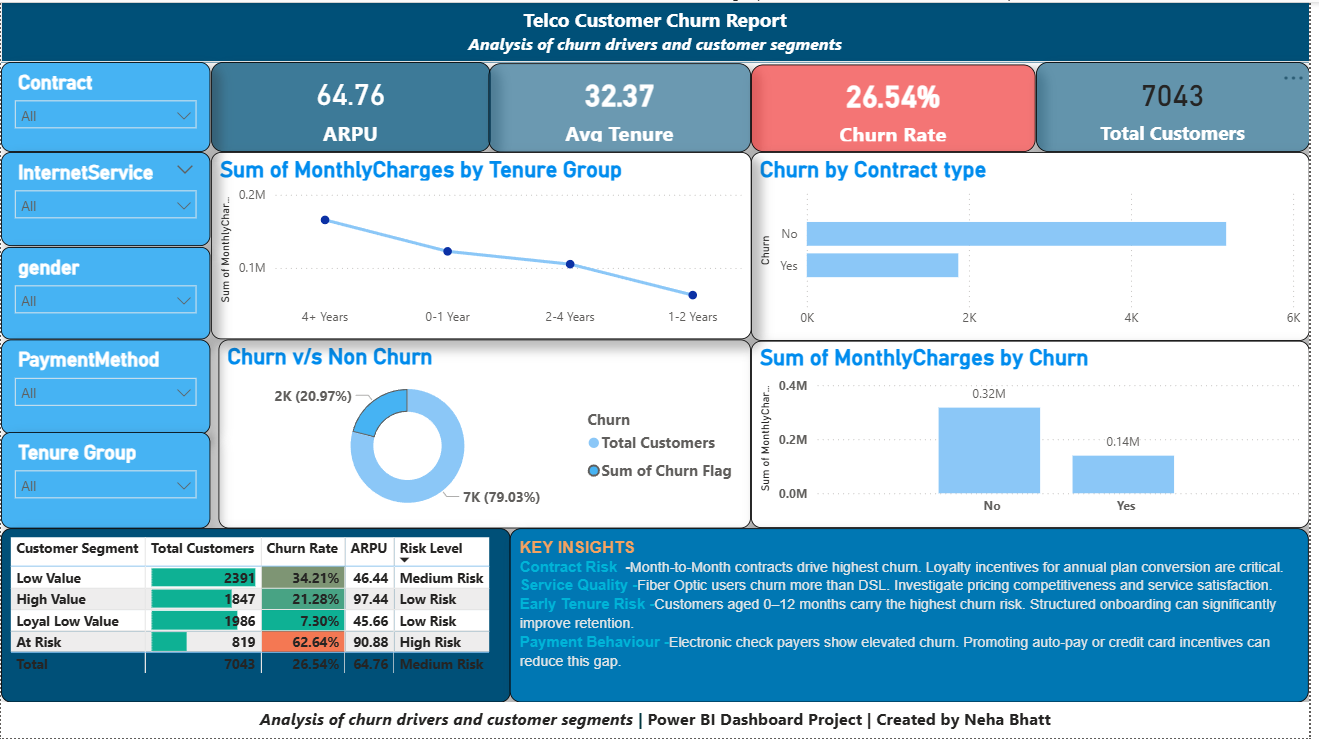

Layout of this report page (visuals, bound fields, positions):
{"tool":"powerbi","page":{"name":"Telco Customer Churn Report","canvas":[1280,720],"ordinal":0},"visuals":[{"type":"textbox","box":[0,0,1280,59.1],"z":0},{"type":"card","fields":{"Values":["Customer Data.ARPU"]},"box":[205.1,59.1,273.9,88.1],"z":1000},{"type":"card","fields":{"Values":["Customer Data.Avg Tenure"]},"box":[476.5,60.3,257,86.9],"z":2000},{"type":"card","fields":{"Values":["Customer Data.Churn Rate"]},"box":[733.5,61.5,278.7,85.7],"z":3000},{"type":"card","fields":{"Values":["Customer Data.Total Customers"]},"box":[1012.2,59.1,267.8,88.1],"z":4000},{"type":"clusteredBarChart","title":"Churn by Contract type","fields":{"Category":["Customer Data.Churn"],"Y":["CountNonNull(Customer Data.Contract)"]},"box":[733.5,147.2,546.5,184.6],"z":5000},{"type":"donutChart","title":"Churn v/s Non Churn","fields":{"Y":["Customer Data.Total Customers","Sum(Customer Data.Churn Flag)"]},"box":[212.3,330.6,521.2,184.6],"z":6000},{"type":"clusteredColumnChart","fields":{"Category":["Customer Data.Churn"],"Y":["Sum(Customer Data.MonthlyCharges)"]},"box":[733.5,331.8,546.5,183.4],"z":7000},{"type":"lineChart","fields":{"Category":["Customer Data.Tenure Group"],"Y":["Sum(Customer Data.MonthlyCharges)"]},"box":[205.1,147.2,528.4,183.4],"z":8000},{"type":"slicer","fields":{"Values":["Customer Data.Contract"]},"box":[0,59.1,205.1,88.1],"z":9000},{"type":"slicer","fields":{"Values":["Customer Data.InternetService"]},"box":[0,147.2,205.1,91.7],"z":10000},{"type":"slicer","fields":{"Values":["Customer Data.gender"]},"box":[0,240.1,205.1,90.5],"z":11000},{"type":"slicer","fields":{"Values":["Customer Data.PaymentMethod"]},"box":[0,330.6,205.1,92.9],"z":12000},{"type":"slicer","fields":{"Values":["Customer Data.Tenure Group"]},"box":[0,421,205.1,94.1],"z":13000},{"type":"tableEx","fields":{"Values":["Customer Data.Customer Segment","Customer Data.Total Customers","Customer Data.Churn Rate","Customer Data.ARPU","Customer Data.Risk Level"]},"box":[0,515.2,498.3,170.1],"z":14000},{"type":"textbox","box":[498.3,515.2,781.8,170.1],"z":15000},{"type":"textbox","box":[0,685.3,1280,35],"z":15001}]}

Visuals, with their boxes in screenshot pixels (x1, y1, x2, y2), scaled from the page's 1280x720 canvas onto the 1319x739 screenshot:
textbox: locate(0, 0, 1318, 61)
card - Customer Data.ARPU: locate(211, 61, 494, 151)
card - Customer Data.Avg Tenure: locate(491, 62, 756, 151)
card - Customer Data.Churn Rate: locate(756, 63, 1043, 151)
card - Customer Data.Total Customers: locate(1043, 61, 1318, 151)
"Churn by Contract type" clusteredBarChart: locate(756, 151, 1318, 341)
"Churn v/s Non Churn" donutChart: locate(219, 339, 756, 529)
clusteredColumnChart - Customer Data.Churn x Sum(Customer Data.MonthlyCharges): locate(756, 341, 1318, 529)
lineChart - Customer Data.Tenure Group x Sum(Customer Data.MonthlyCharges): locate(211, 151, 756, 339)
slicer - Customer Data.Contract: locate(0, 61, 211, 151)
slicer - Customer Data.InternetService: locate(0, 151, 211, 245)
slicer - Customer Data.gender: locate(0, 246, 211, 339)
slicer - Customer Data.PaymentMethod: locate(0, 339, 211, 435)
slicer - Customer Data.Tenure Group: locate(0, 432, 211, 529)
tableEx - Customer Data.Customer Segment x Customer Data.Total Customers: locate(0, 529, 513, 703)
textbox: locate(513, 529, 1318, 703)
textbox: locate(0, 703, 1318, 738)
